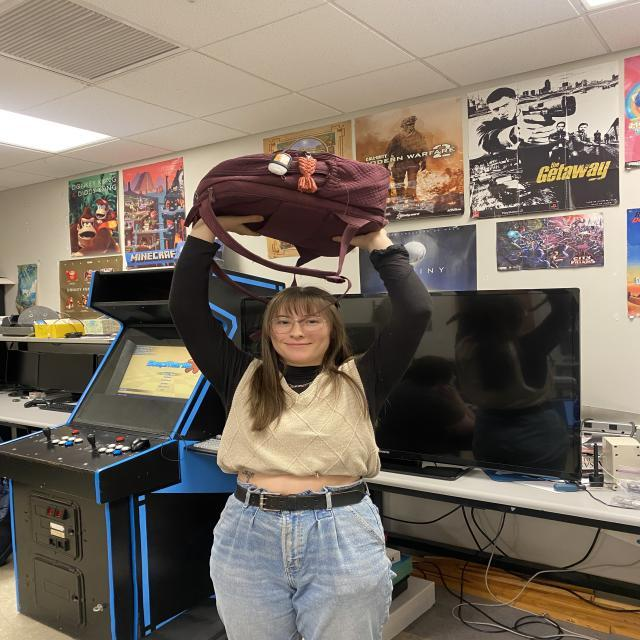Backpacks: (186, 150, 396, 249)
